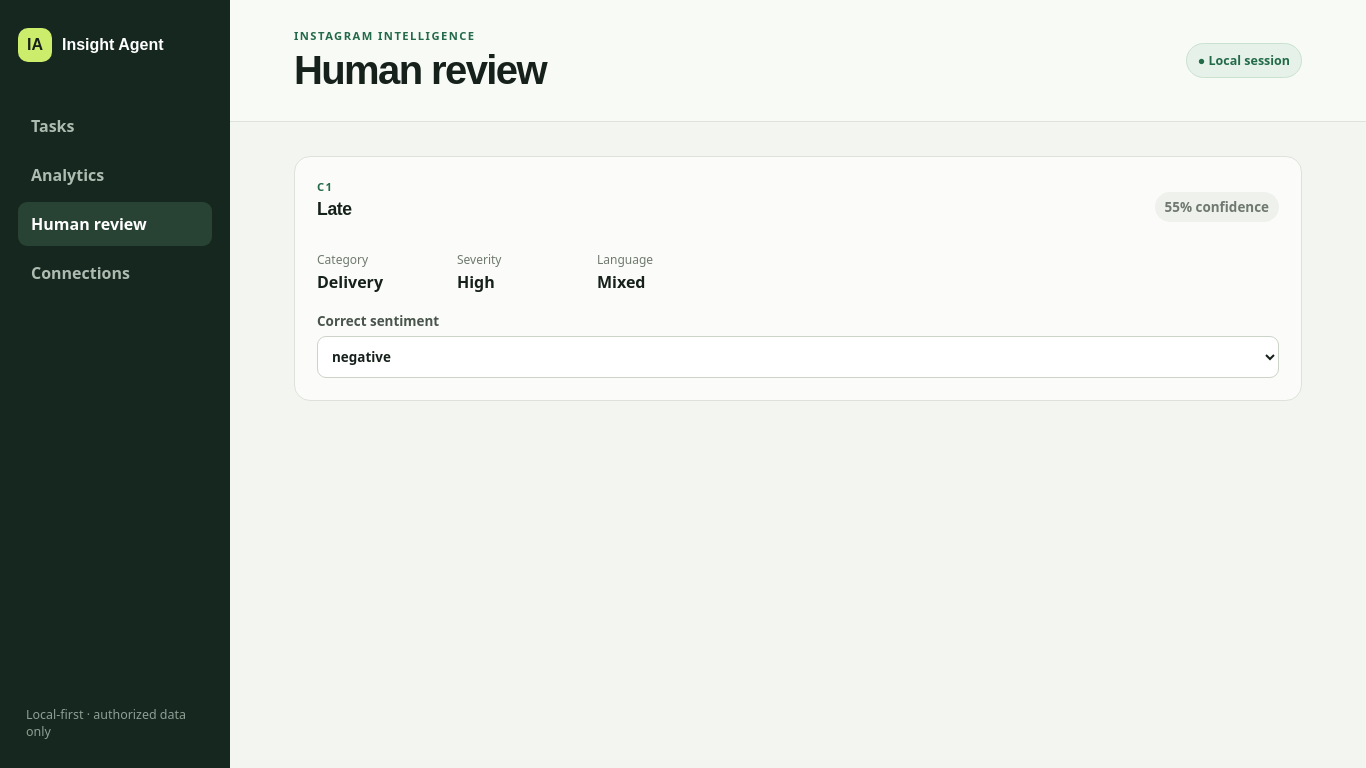
dashboard › round-trips a correction before showing audit history
Step 1. Select "mixed" in the dropdown named "Correct sentiment for c1" → (798, 357), box x1=317 y1=336 x2=1279 y2=378
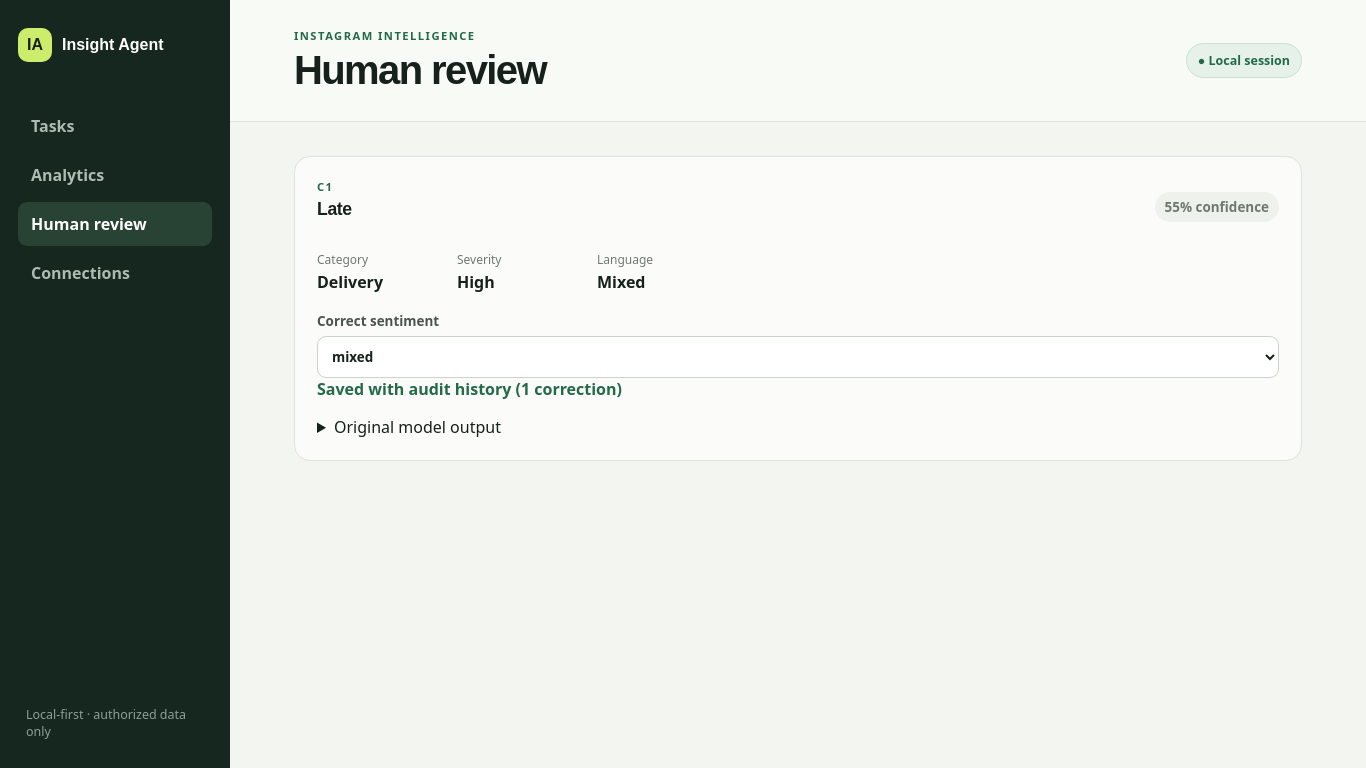
Expected: the text "Saved with audit history (1 correction)" is shown, x1=317 y1=378 x2=622 y2=400
Expected: the heading "Original model output" is shown, x1=334 y1=416 x2=501 y2=438
